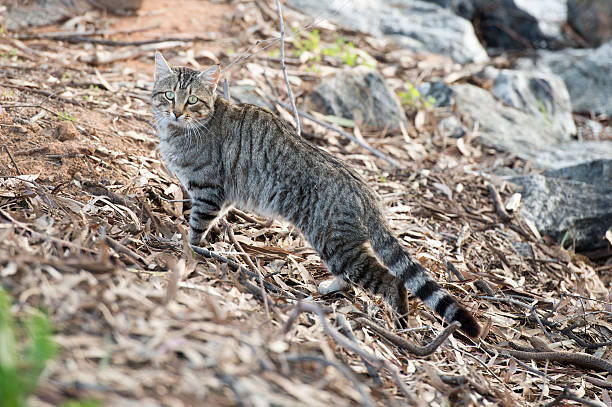Cat: (144, 51, 486, 347)
